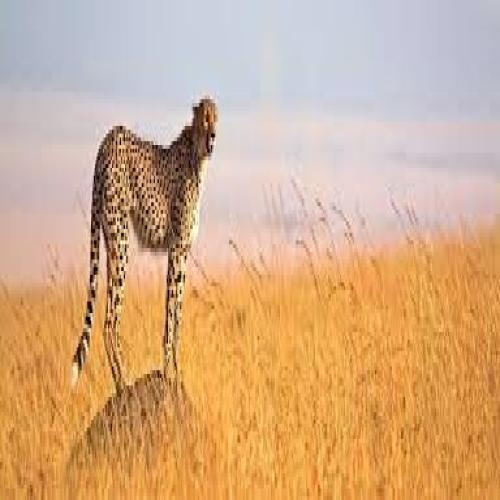cheetah-endangered: (68, 94, 220, 396)
